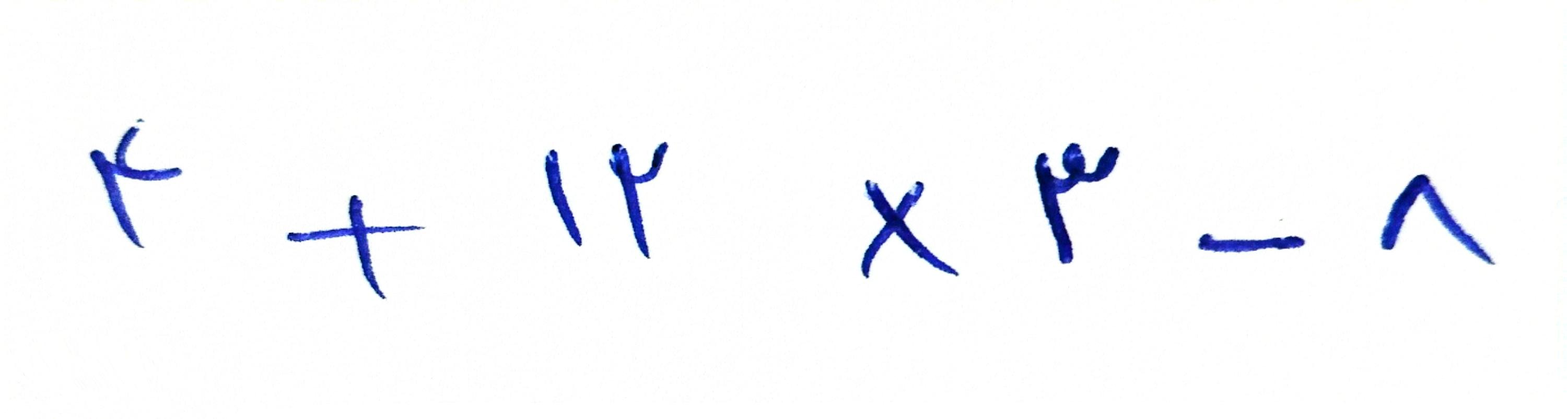character: (287, 196, 425, 300), (89, 120, 183, 252), (1378, 175, 1497, 269), (862, 178, 962, 281), (1036, 143, 1119, 262), (608, 140, 669, 260), (545, 149, 584, 249), (1200, 235, 1311, 253)
